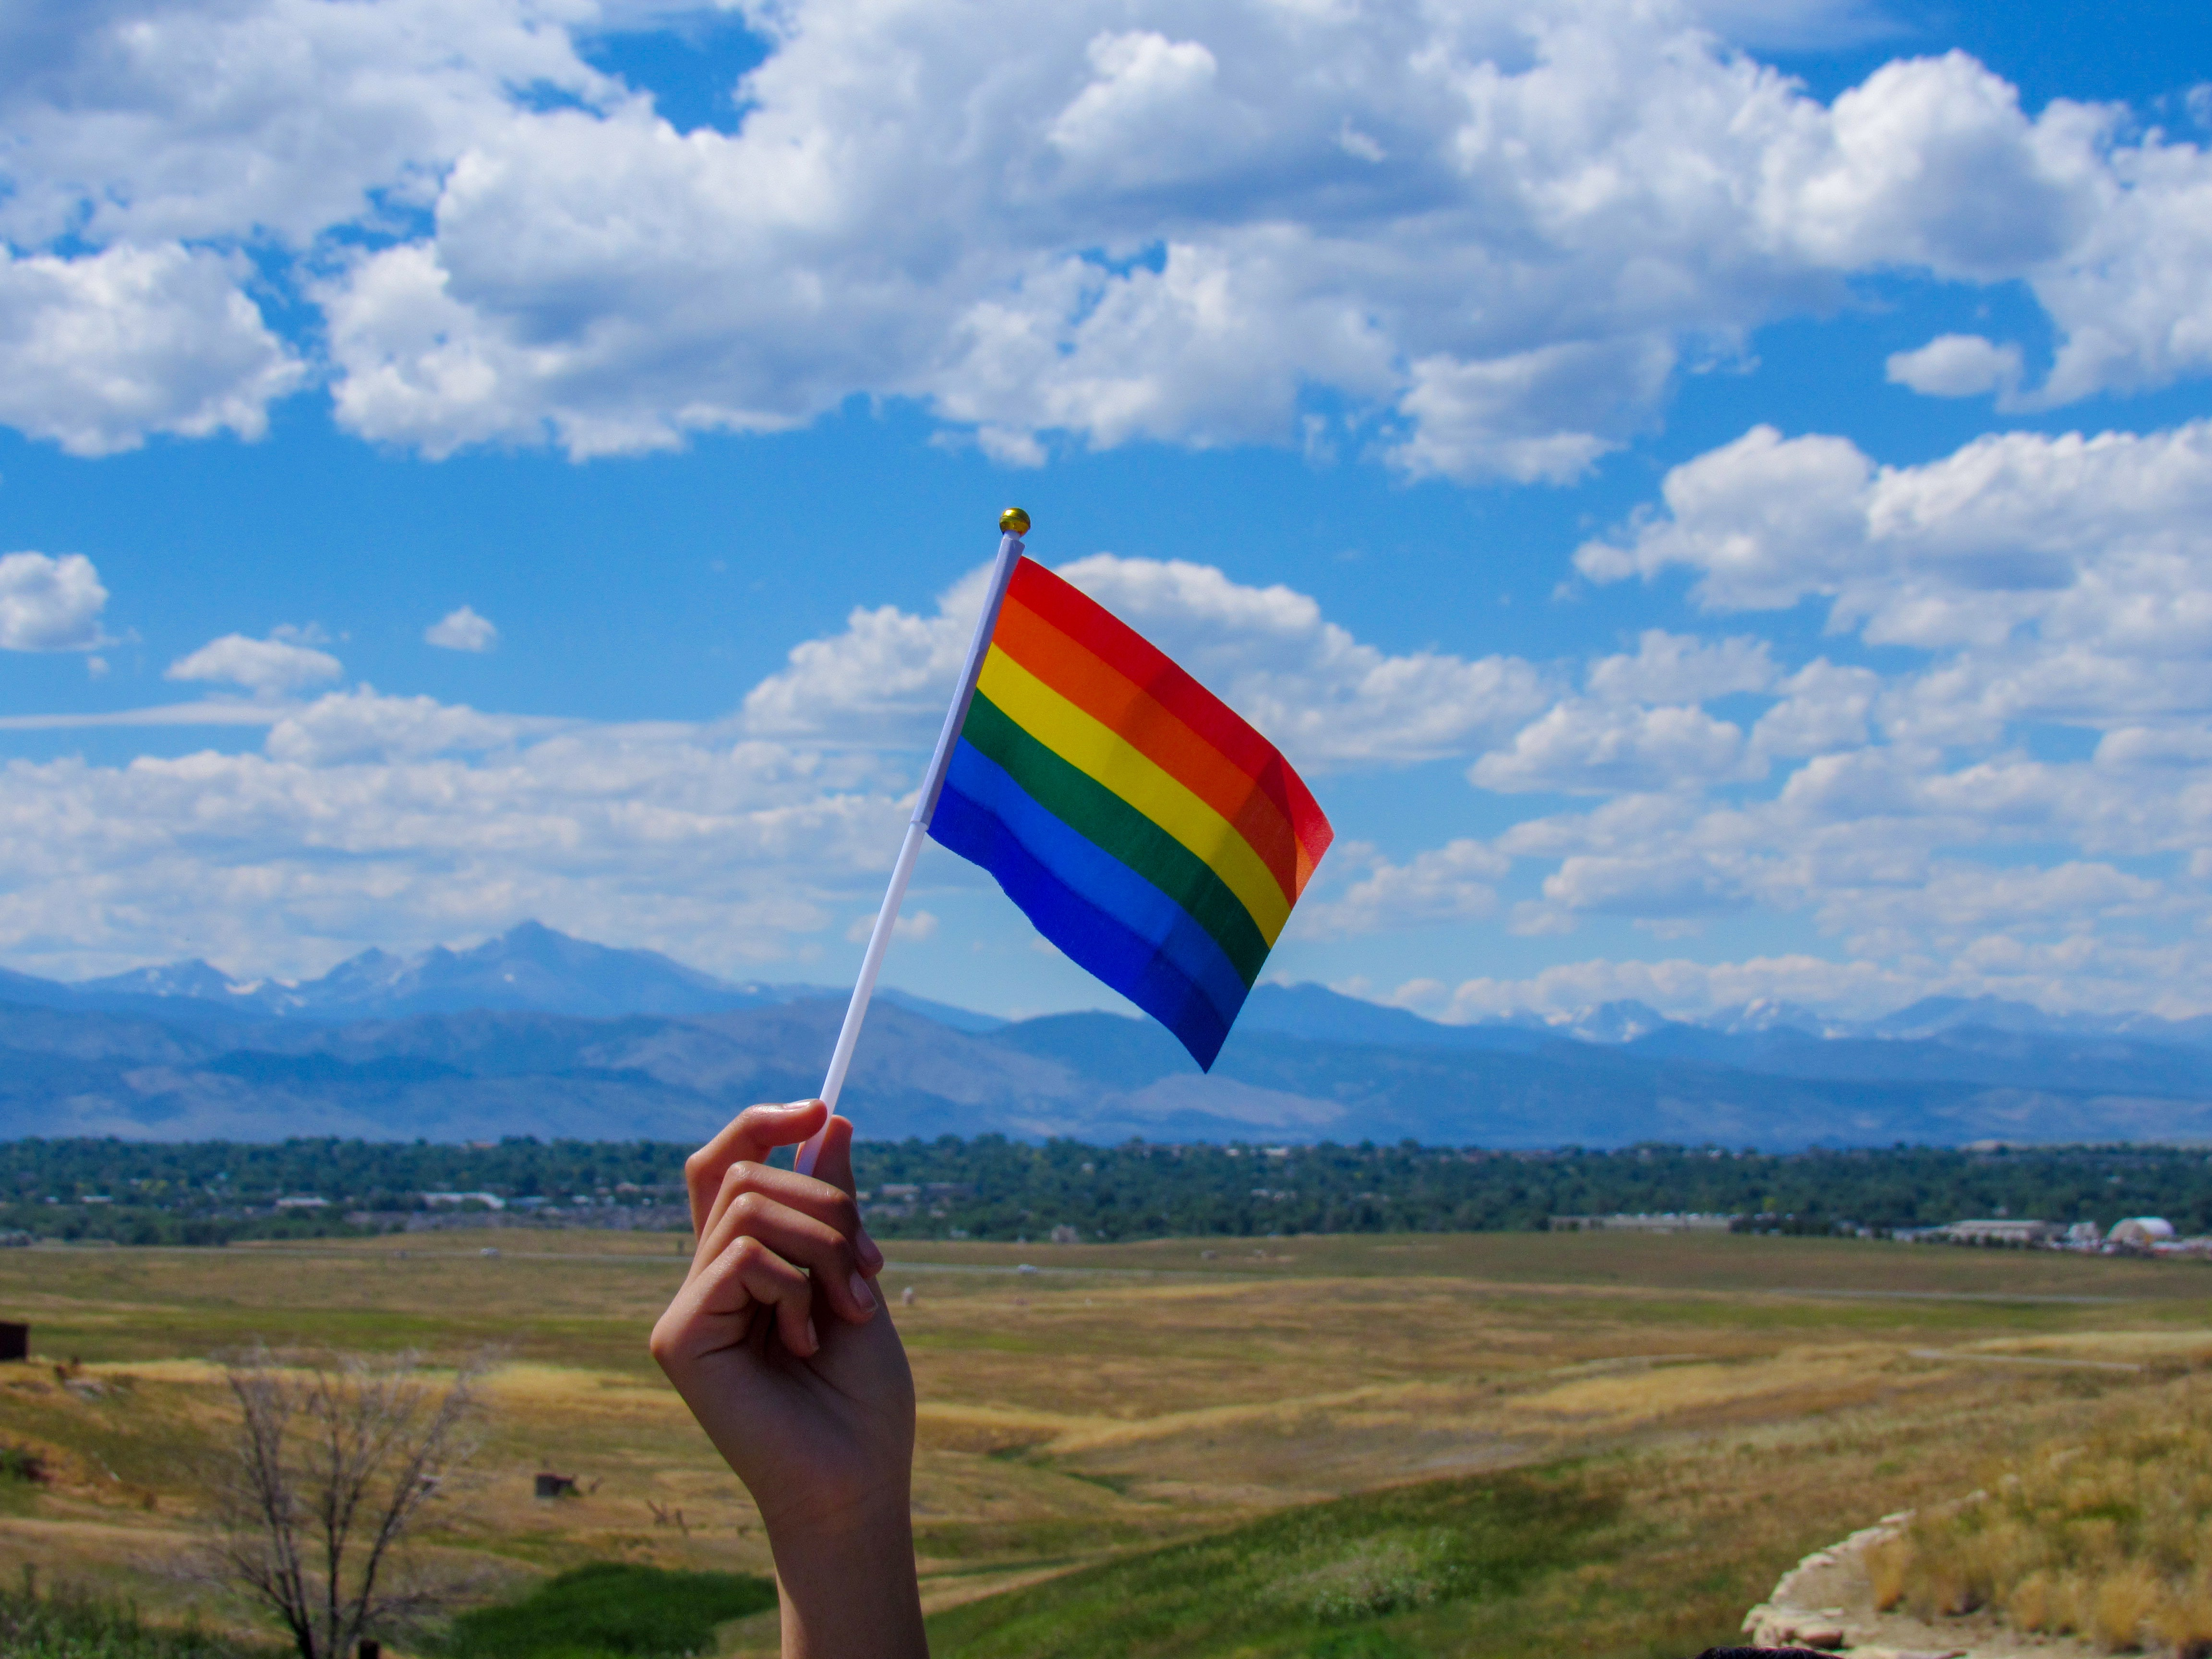Flag: (921, 552, 1338, 1089)
